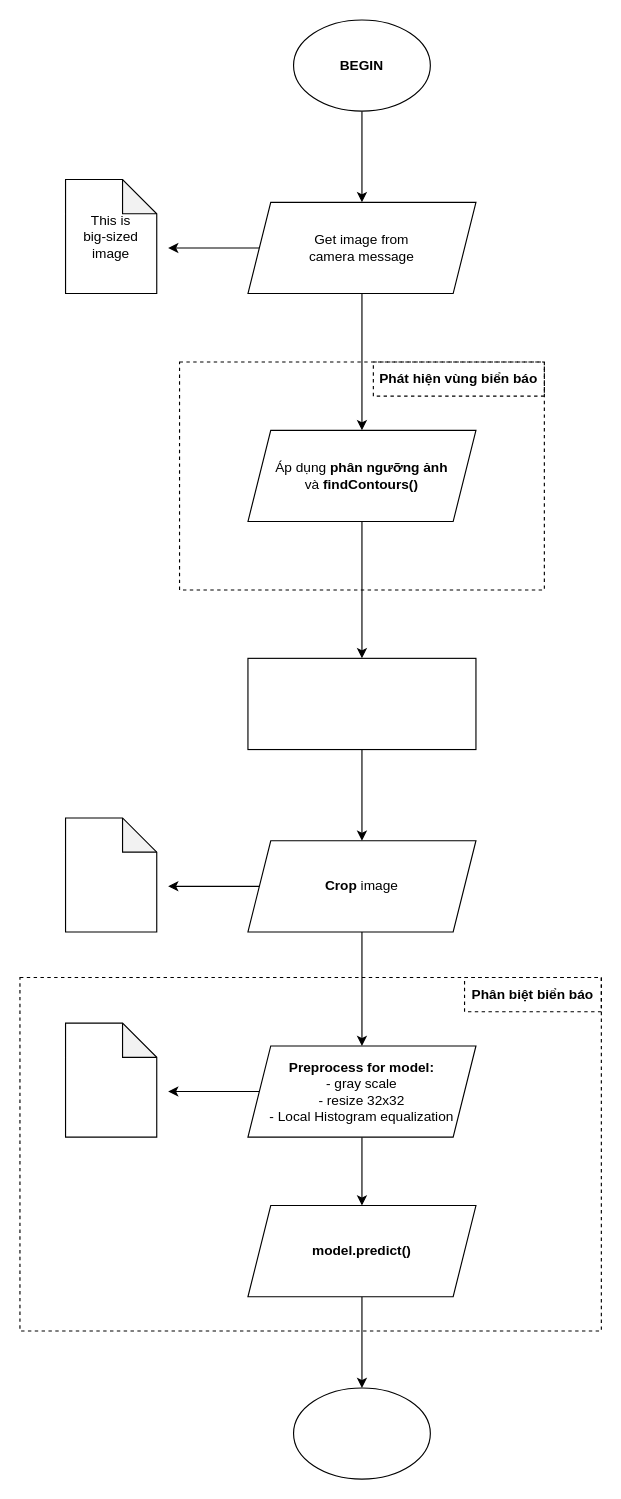
Image size: 621x1499. Some labels were removed from this diagram. Each missing label, with the box of its shape:
END: (292, 1387, 430, 1479)
Get position of traffic sign from above: (247, 657, 476, 750)
This is 32x32 image: (64, 1022, 157, 1137)
This is small-sized image: (64, 817, 157, 932)
